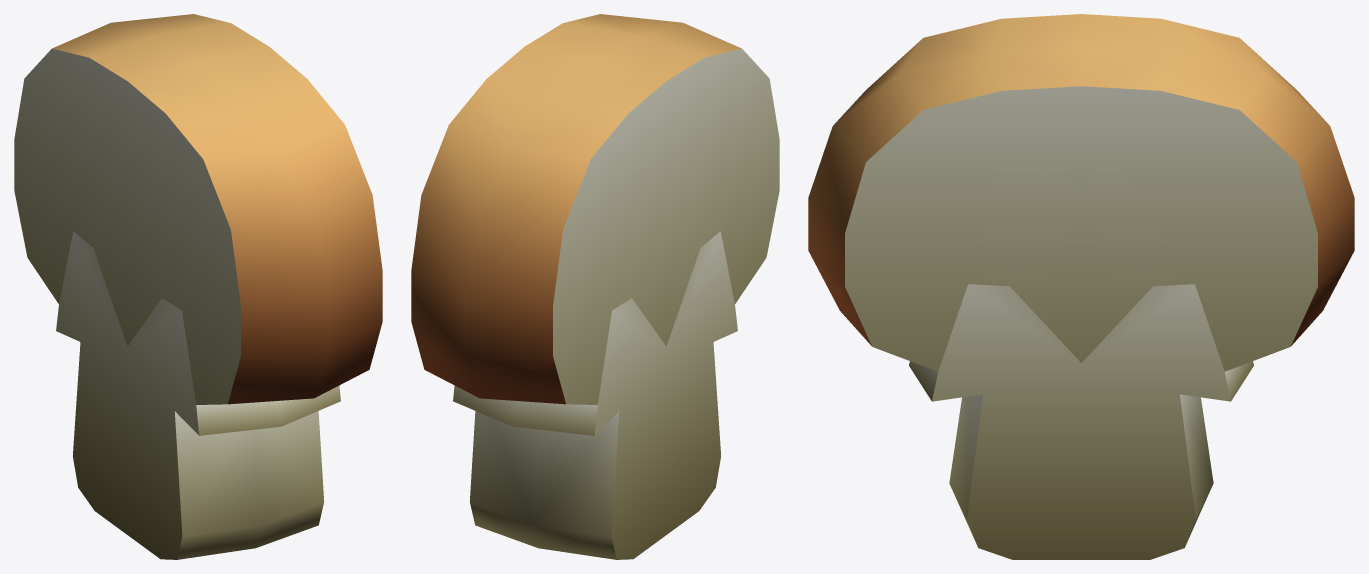
The model's file is Bell_Mushroom_Slice_01.glb.
The picture shows the model from 3 angles, left to right: view 1: azimuth 30°, elevation 25°; view 2: azimuth 150°, elevation 25°; view 3: azimuth 270°, elevation 25°; orthographic projection. The views are drawn at different scales.
Visible parts, largest first — view 1: Bell_Mushroom_Slice_01; view 2: Bell_Mushroom_Slice_01; view 3: Bell_Mushroom_Slice_01.
Boxes of the visible parts, x1,y1,x2,y2 form: Bell_Mushroom_Slice_01: (14, 14, 382, 559); Bell_Mushroom_Slice_01: (411, 14, 779, 559); Bell_Mushroom_Slice_01: (808, 14, 1354, 559).
Size of the model in its own units: 0.0967 by 0.2974 by 0.3093.
Materials: 1 (1 with a texture image).
